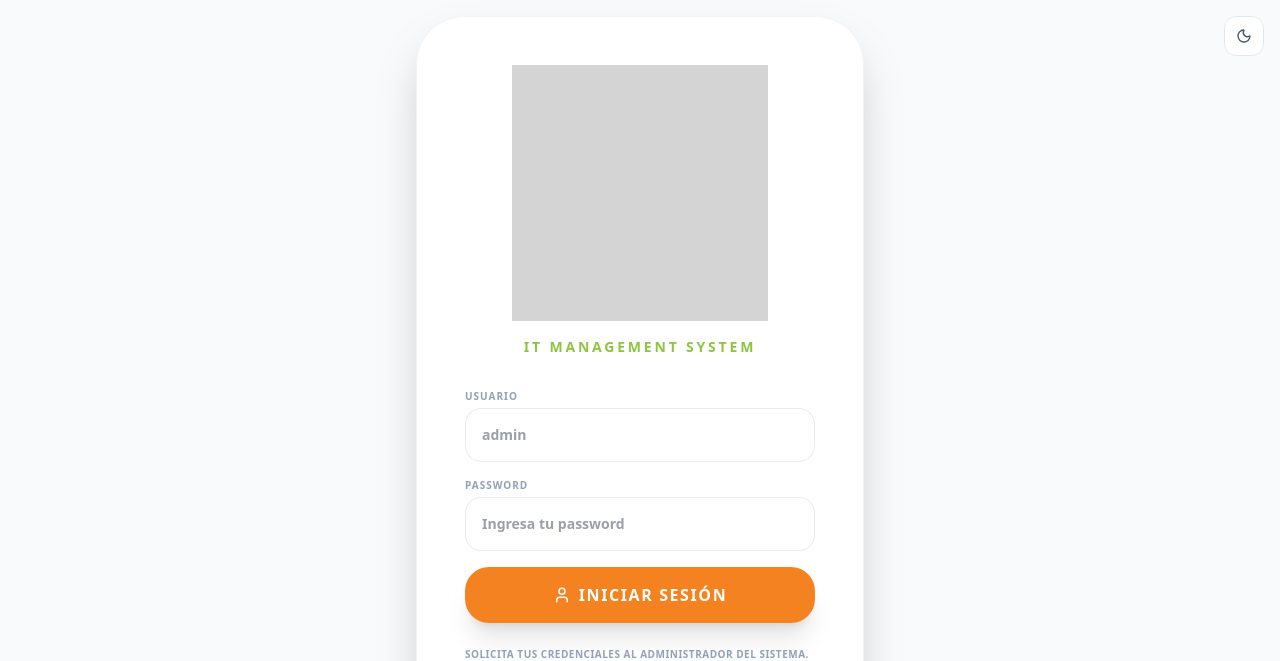
App UI flow › un usuario de consulta ve operacion en lectura y no puede generar tickets
In the field with placeholder "admin": [640, 435] box [465,408,815,462], type "consulta.integration"
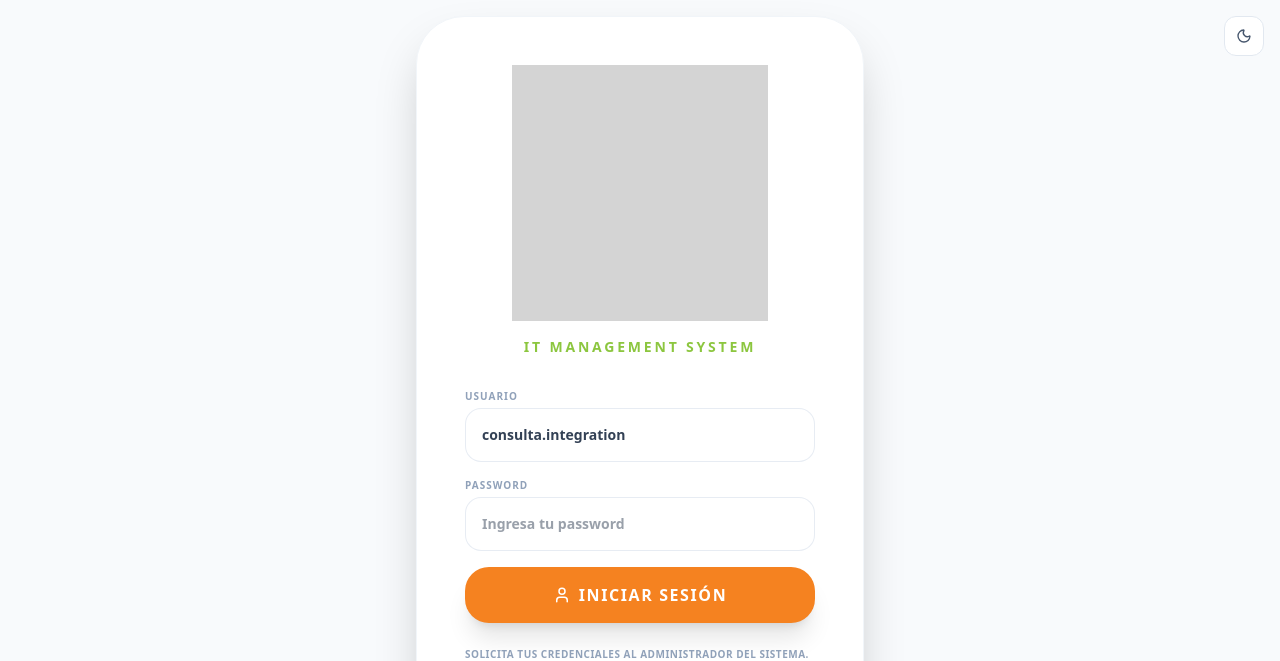
In the password field with placeholder "Ingresa tu password": [640, 524] box [465,497,815,551], type "Consulta.Ui.123"
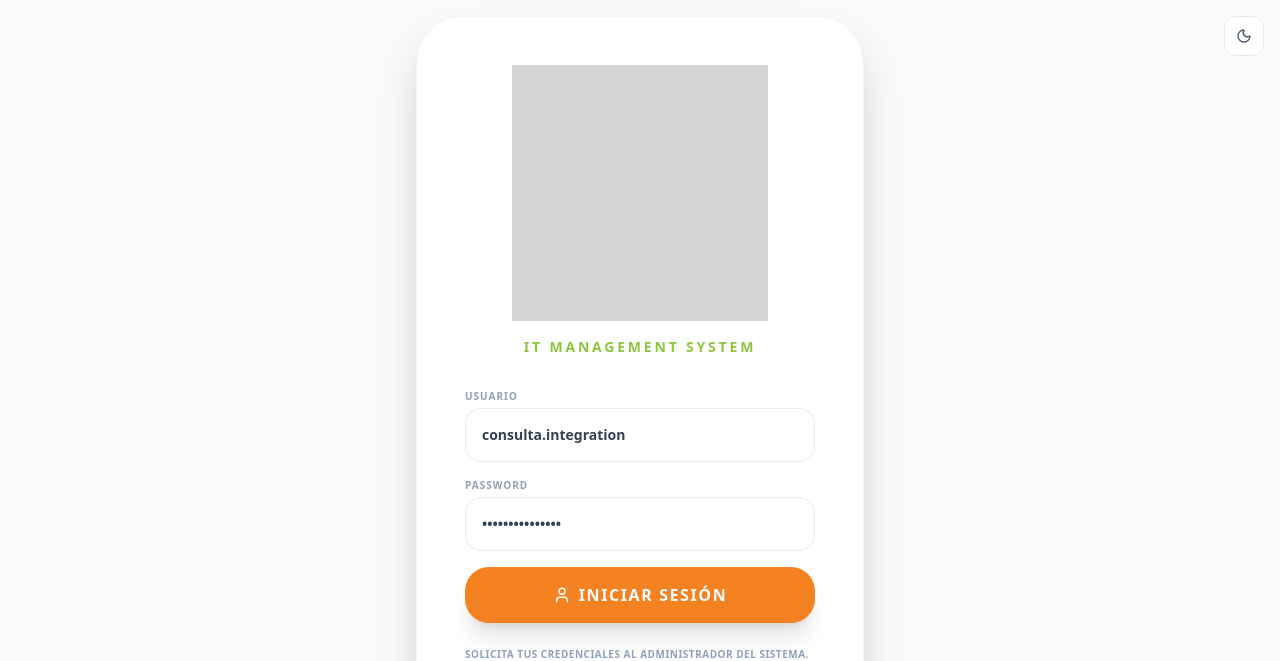
Click the button "Iniciar Sesión": [640, 595] box [465,567,815,623]
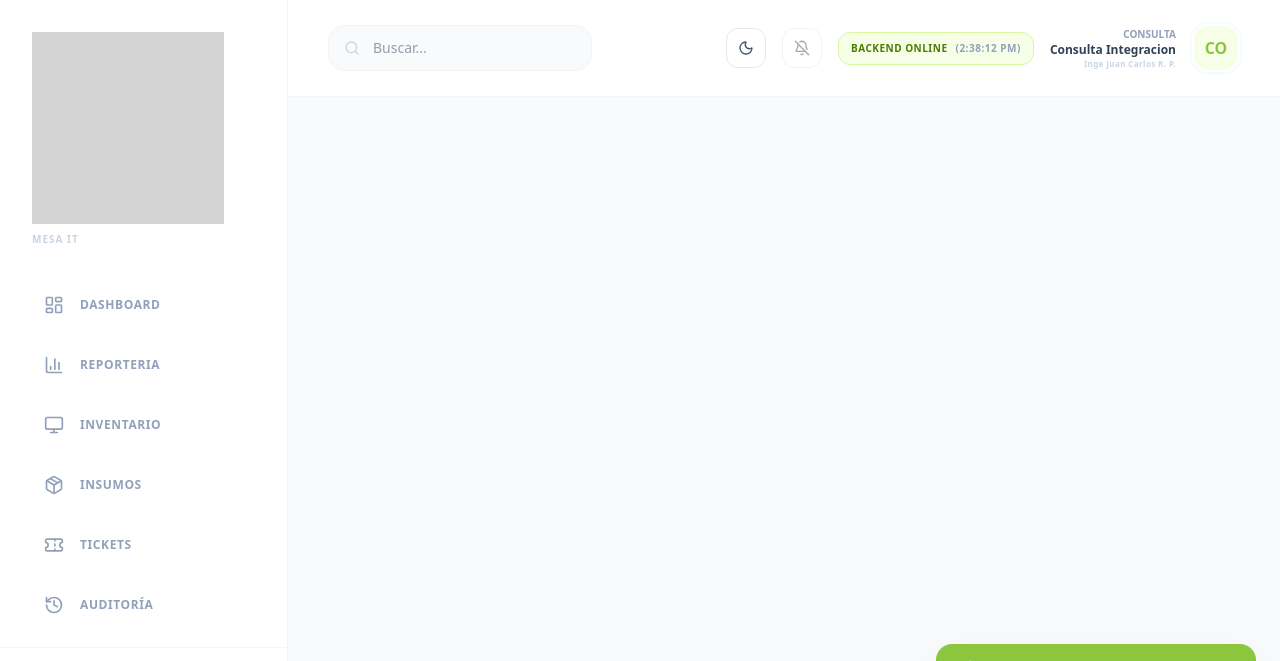
Now the text "Backend Online" is shown, box [851,40,948,56]
Now the link "Dashboard" is shown, box [44,295,161,315]
Now the link "Tickets" is shown
Click the link "Tickets": [88, 545] box [44,535,132,555]
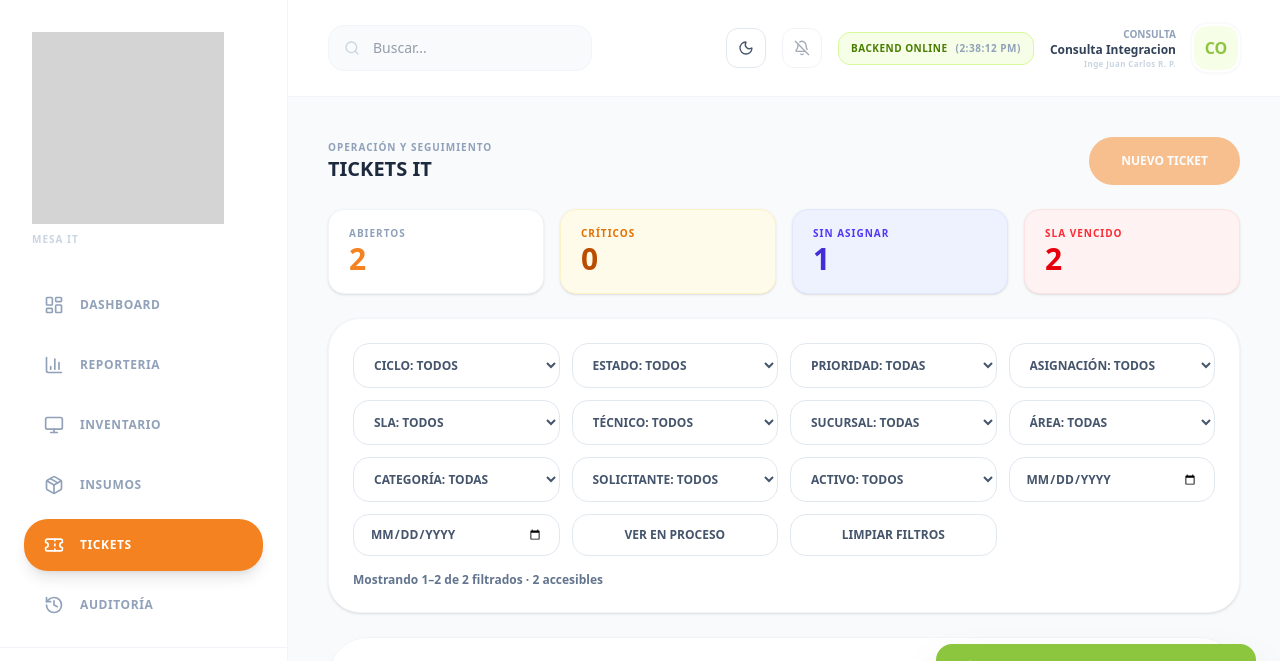
Now the heading "Tickets IT" is shown, box [328,154,432,182]
Now the button "Nuevo ticket" is disabled, box [1089,137,1240,185]
